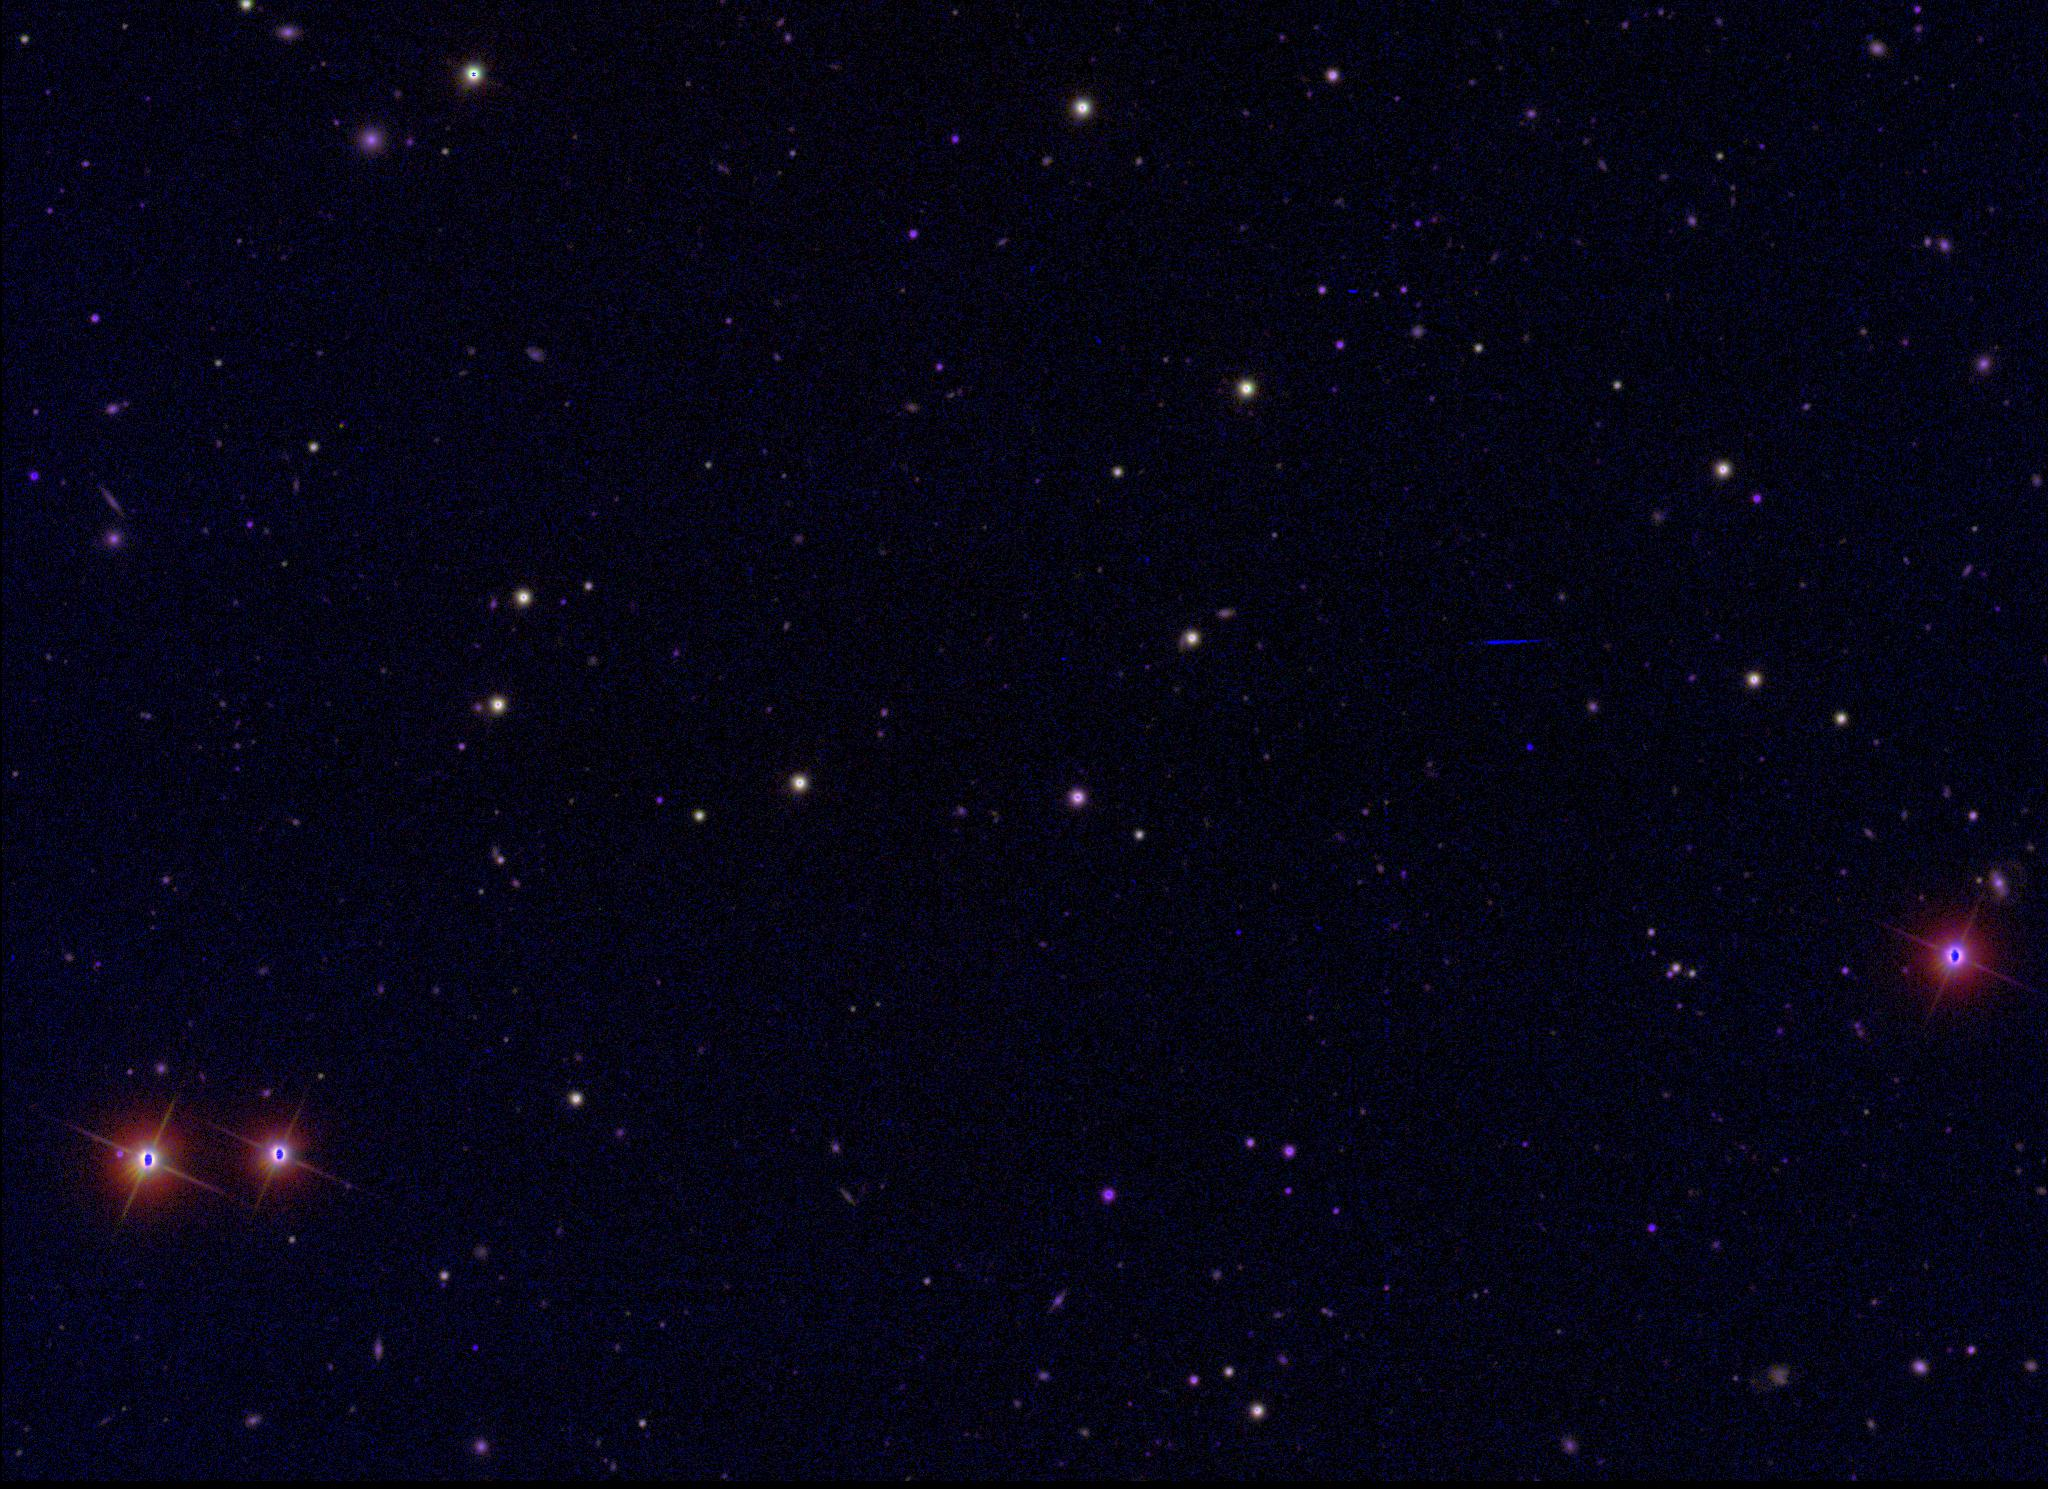L: (1523, 740, 1538, 754)
